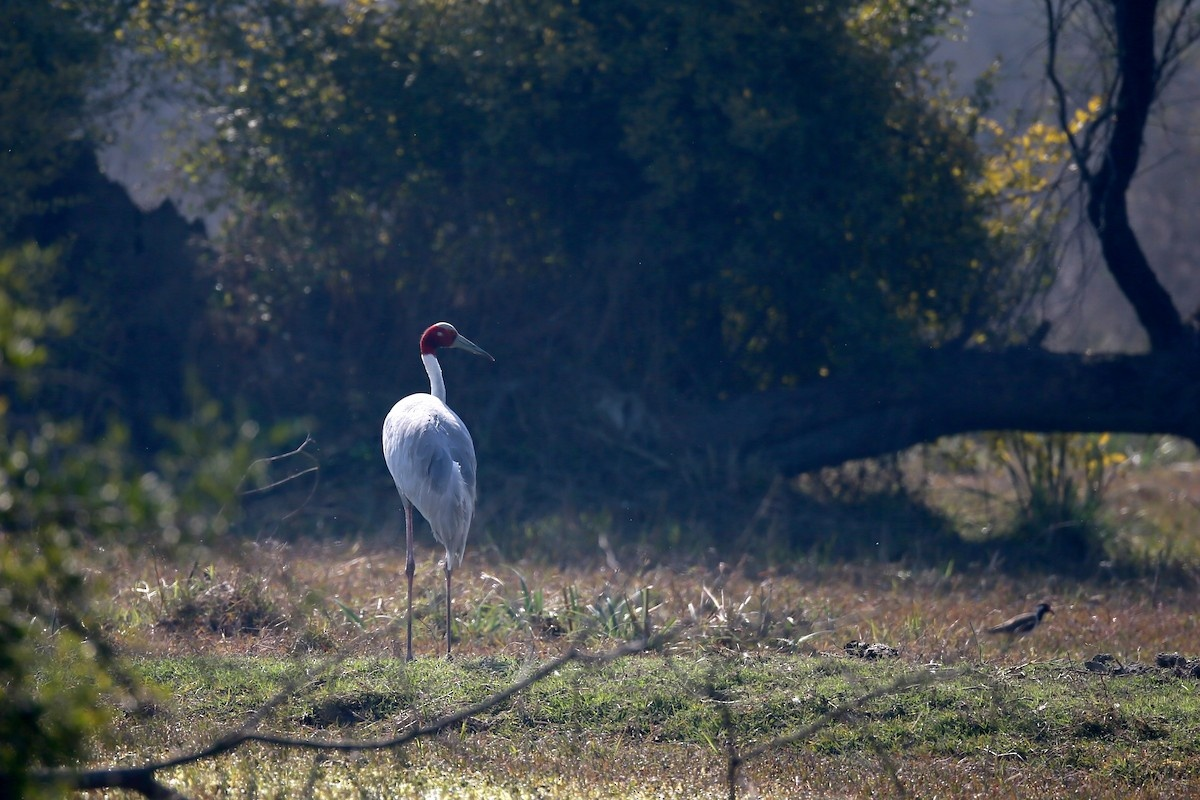crane: (378, 297, 503, 631)
